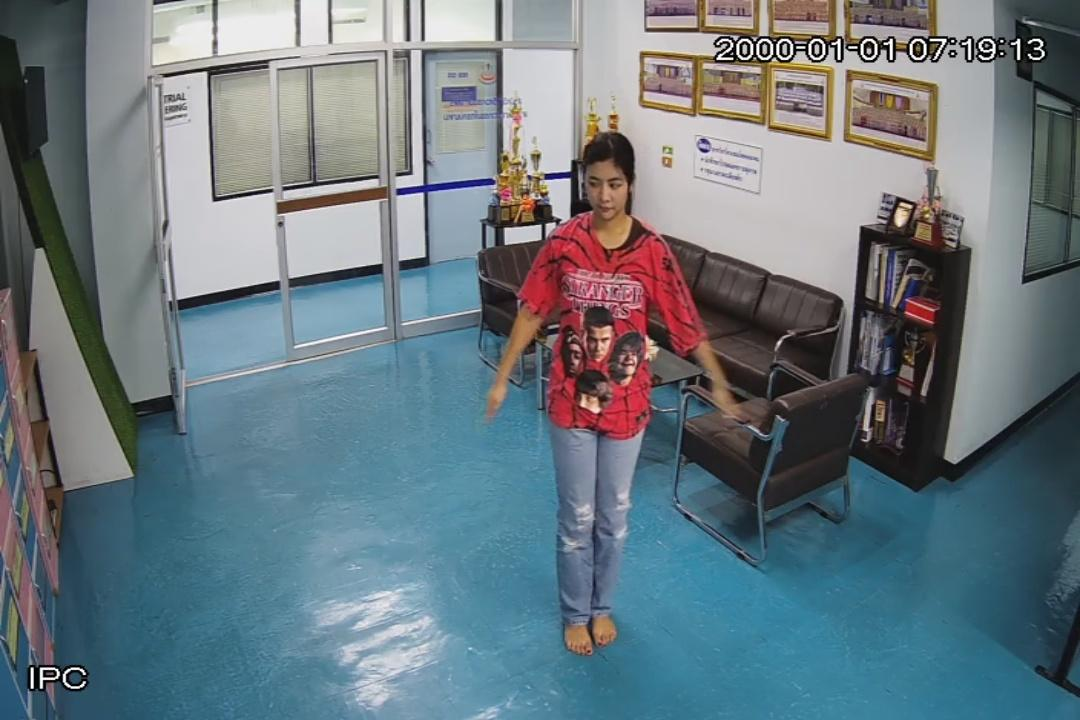normal: (486, 116, 740, 654)
